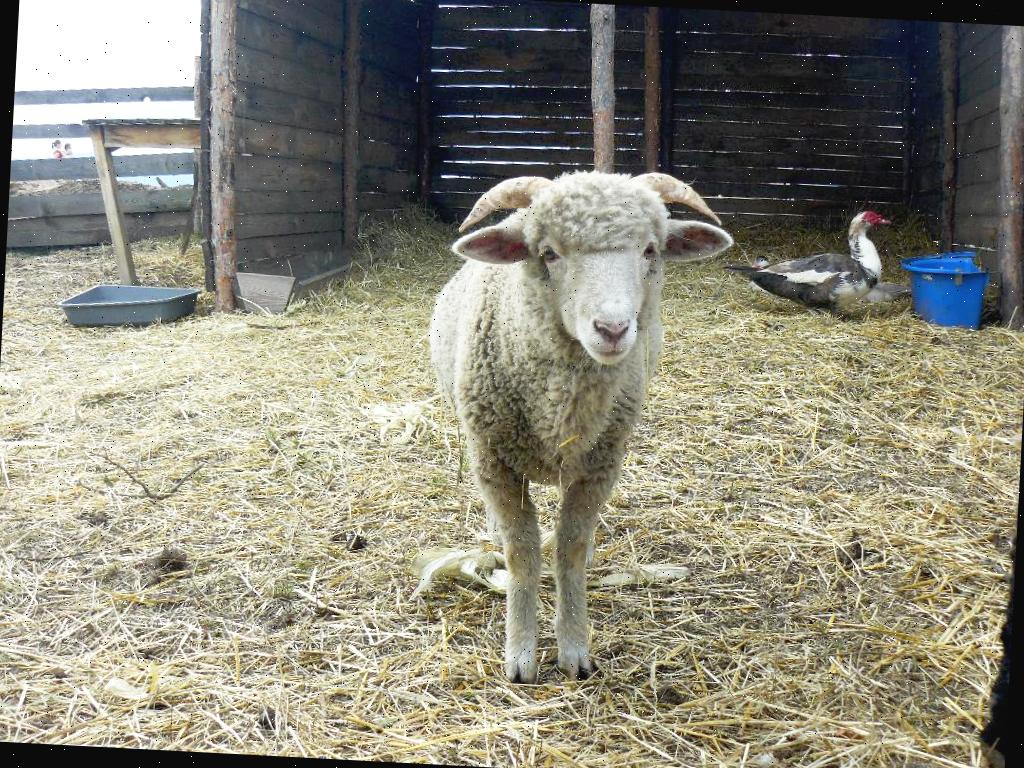Sheep: (393, 146, 735, 705)
